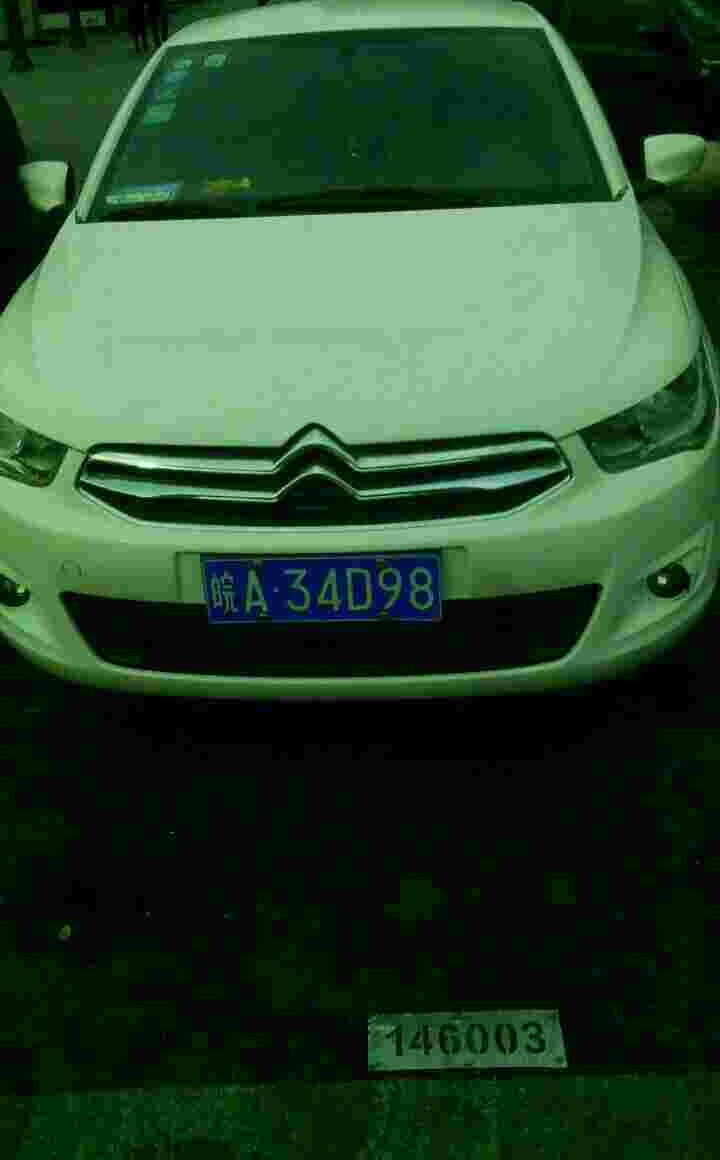license_plate: (201, 548, 442, 632)
